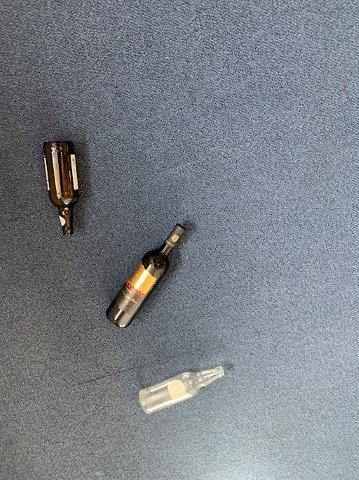botolkaca: (106, 224, 185, 329), (137, 365, 224, 411), (41, 140, 82, 237)
